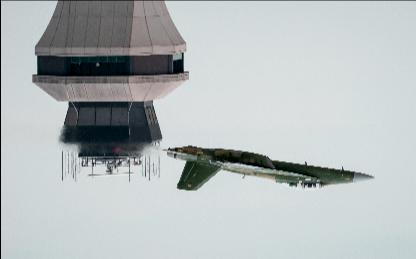F15: (154, 145, 374, 190)
